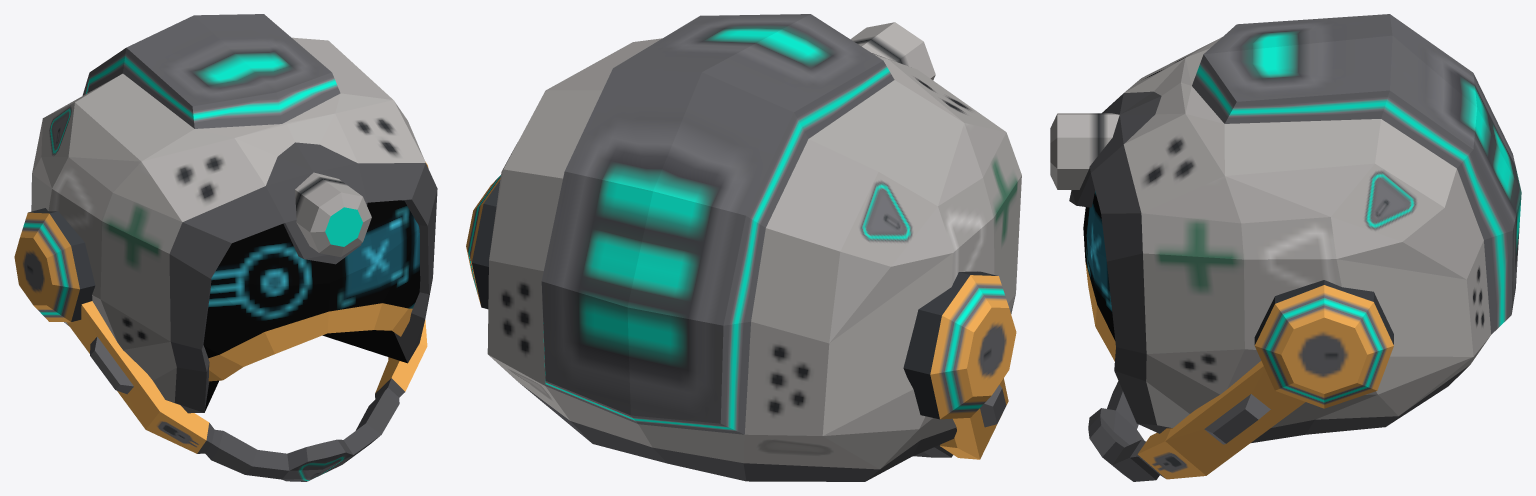
The model's file is SM_Chr_Attach_Helmet_Soldier_03.fbx.
3 views of the same model, side by side, from view 1: azimuth 30°, elevation 25°; view 2: azimuth 150°, elevation 25°; view 3: azimuth 270°, elevation 25° (orthographic). The views are drawn at different scales.
Visible parts, largest first — view 1: SM_Chr_Attach_Helmet_Soldier_03; view 2: SM_Chr_Attach_Helmet_Soldier_03; view 3: SM_Chr_Attach_Helmet_Soldier_03.
Part boxes in pixels (x1,y1,x2,y2): SM_Chr_Attach_Helmet_Soldier_03: (14,14,437,481); SM_Chr_Attach_Helmet_Soldier_03: (466,14,1021,481); SM_Chr_Attach_Helmet_Soldier_03: (1050,14,1521,481).
Size of the model in its own units: 34.12 by 32.85 by 32.05.
